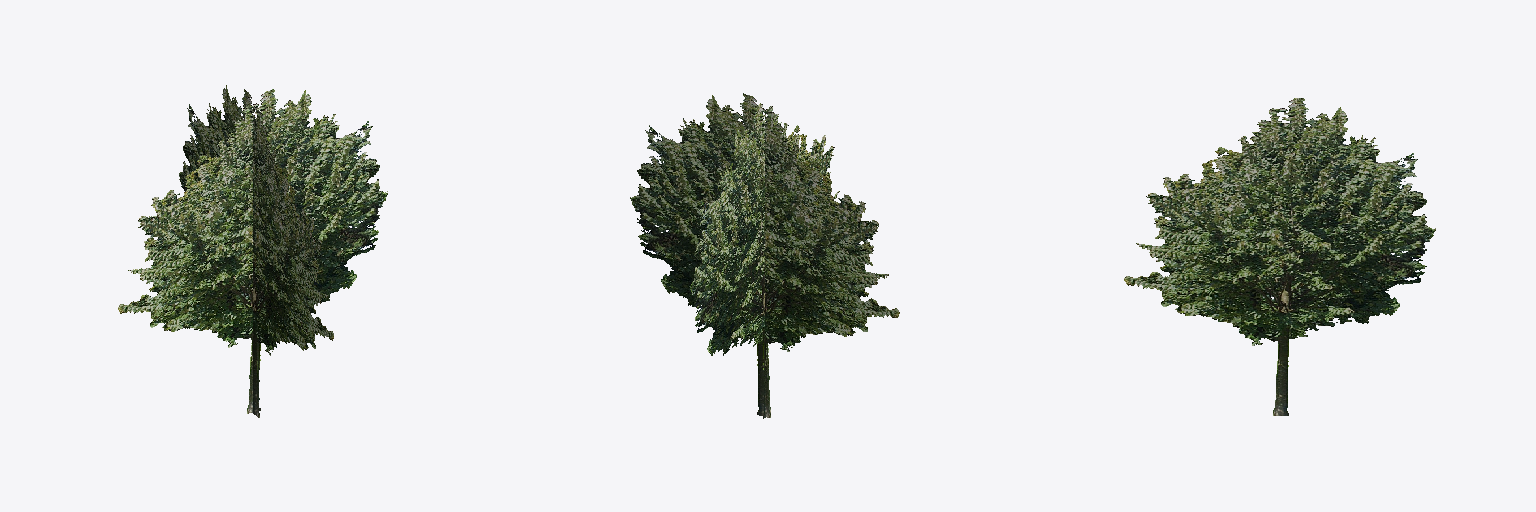
3 renders of one model, left to right at view 1: azimuth 30°, elevation 25°; view 2: azimuth 150°, elevation 25°; view 3: azimuth 270°, elevation 25°, orthographic.
Parts seen in each view (by area): view 1: Plane.001; view 2: Plane.001; view 3: Plane.001.
Boxes of the visible parts, <box> form: Plane.001: <box>118,85,387,417</box>; Plane.001: <box>630,93,899,418</box>; Plane.001: <box>1124,98,1435,415</box>.
Size of the model in its own units: 8.18 by 9.28 by 8.18.
1 materials, 1 textured.